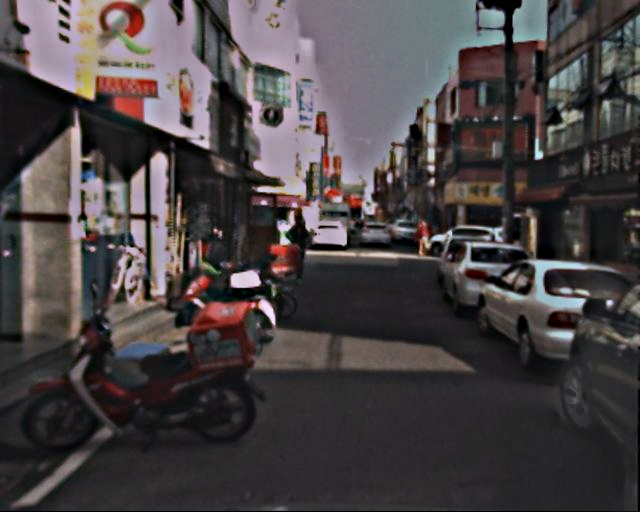person: (286, 215, 315, 285), (416, 219, 434, 255)
